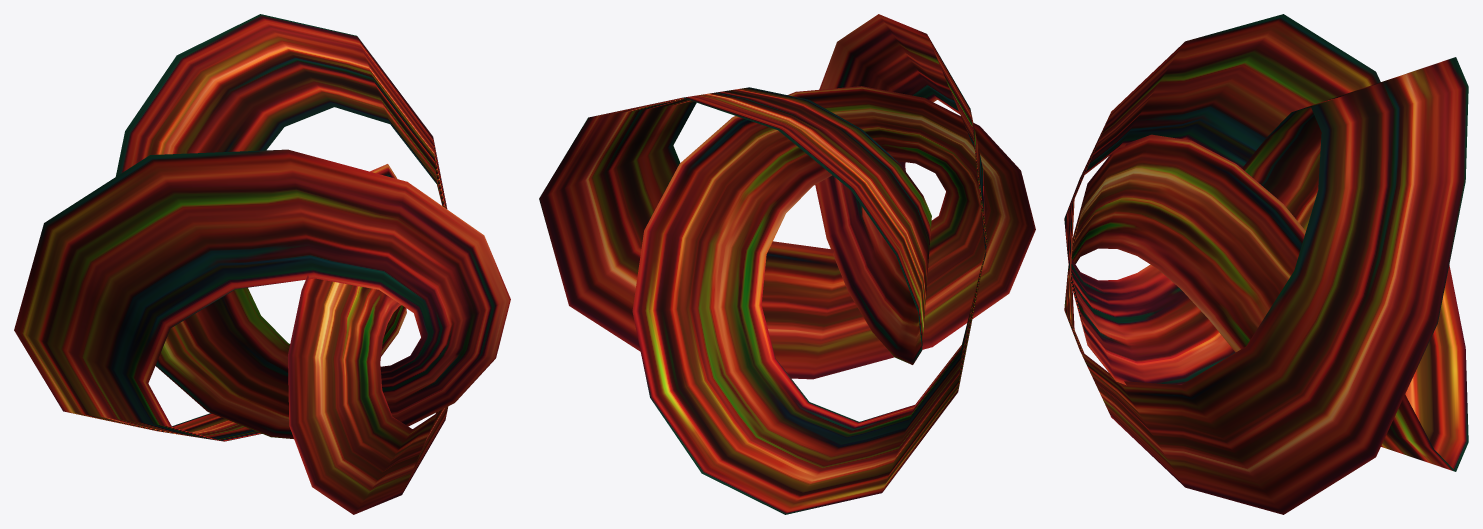
Rendered from shixueshalu_hand.FBX.
3 views of the same model, side by side, from view 1: azimuth 30°, elevation 25°; view 2: azimuth 150°, elevation 25°; view 3: azimuth 270°, elevation 25° (orthographic). The views are drawn at different scales.
Parts seen in each view (by area): view 1: Torus Knot001; view 2: Torus Knot001; view 3: Torus Knot001.
Boxes of the visible parts, <box> form: Torus Knot001: <box>14,14,510,514</box>; Torus Knot001: <box>539,14,1035,514</box>; Torus Knot001: <box>1064,14,1468,514</box>.
Bounding box in the file's own units: 1.39 × 1.24 × 1.12.
Materials: 1 (1 with a texture image).
